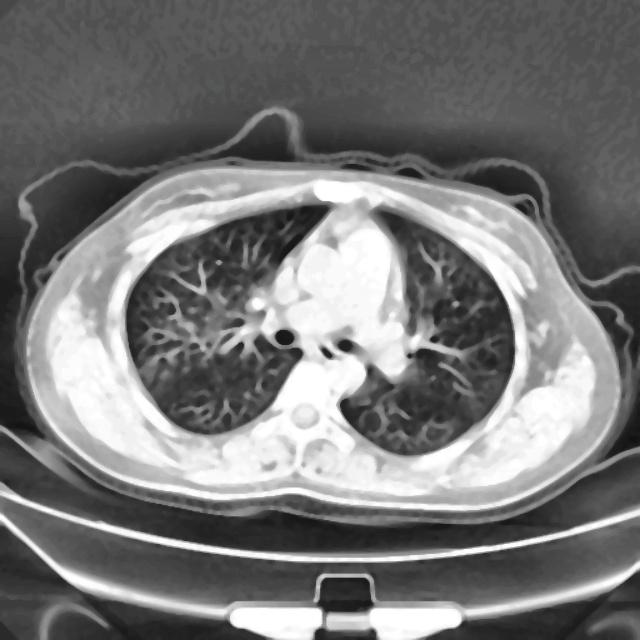covid: (15, 145, 628, 527)
